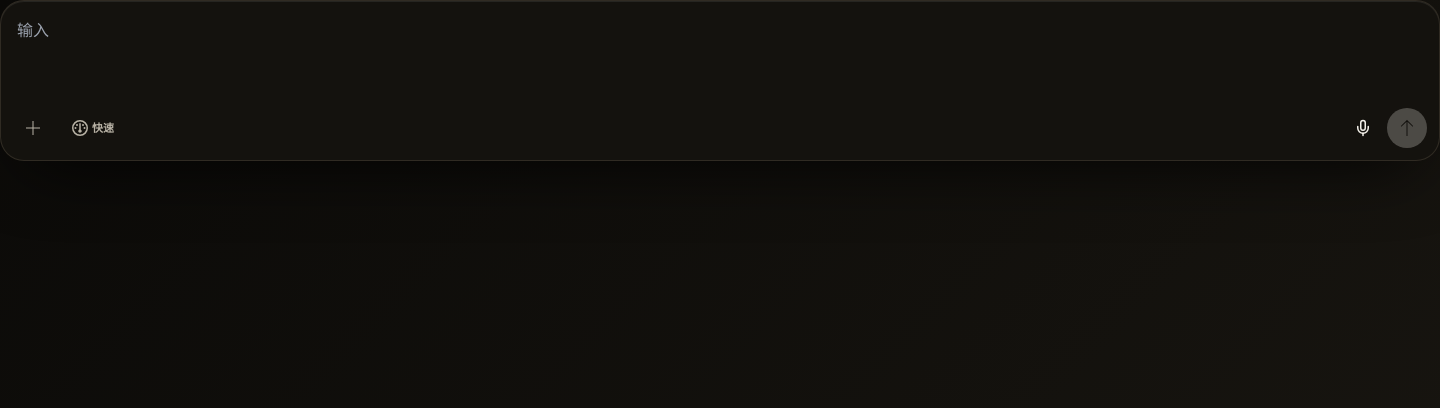
Scenario: AgentComposer thinking-depth picker › defaults to low and opens a three-tier menu
Click the button with aria-label "思考深度: 快速" at (93, 128), box [61, 108, 125, 148]
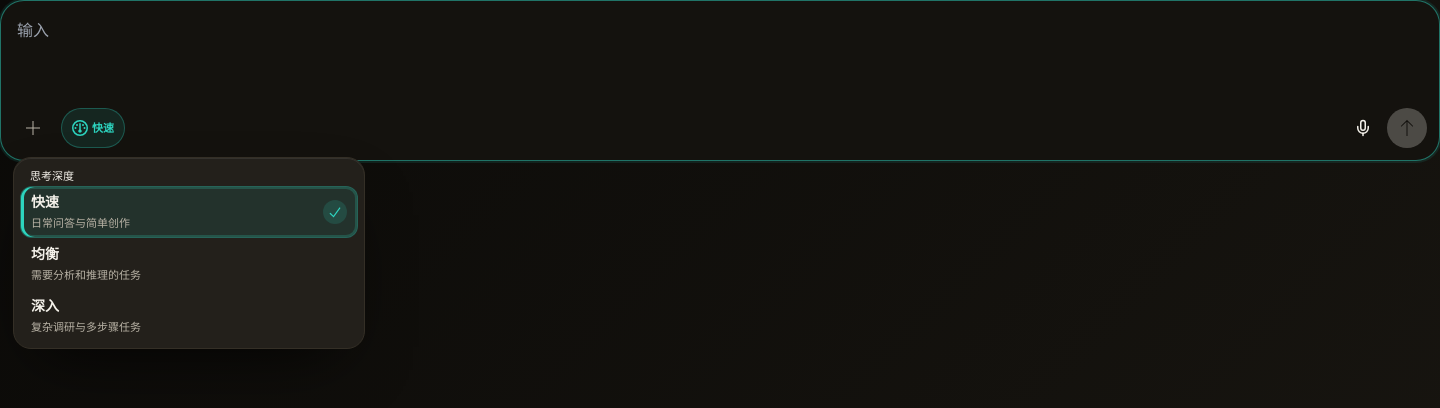
Expected: the menu "思考深度" is shown, [13, 157, 365, 349]
Expected: the menu item "快速 日常问答与简单创作" is shown, [20, 186, 358, 238]
Expected: the menu item "均衡 需要分析和推理的任务" is shown, [20, 238, 358, 290]
